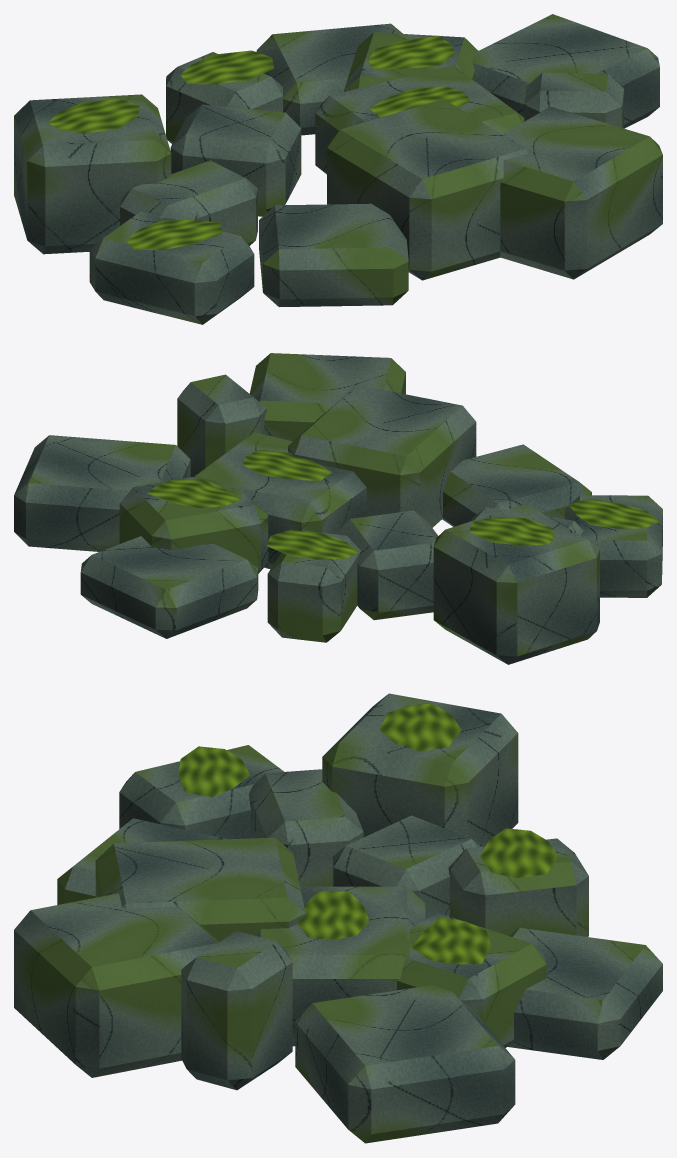
The model's file is temple-rubble.glb.
3 views of the same model, one above another, from view 1: azimuth 30°, elevation 25°; view 2: azimuth 150°, elevation 25°; view 3: azimuth 270°, elevation 25° (orthographic). The views are drawn at different scales.
Parts seen in each view (by area): view 1: temple-rubble_kit-stone, temple-rubble_kit-moss; view 2: temple-rubble_kit-stone, temple-rubble_kit-moss; view 3: temple-rubble_kit-stone, temple-rubble_kit-moss.
Part boxes in pixels (x1,y1,x2,y2): temple-rubble_kit-stone: (14, 14, 662, 324); temple-rubble_kit-moss: (48, 35, 470, 249); temple-rubble_kit-stone: (14, 353, 662, 664); temple-rubble_kit-moss: (147, 450, 659, 559); temple-rubble_kit-stone: (14, 693, 662, 1143); temple-rubble_kit-moss: (178, 703, 558, 964).
Bounding box in the file's own units: 1.79 × 0.314 × 1.43.
2 materials, 2 textured.
